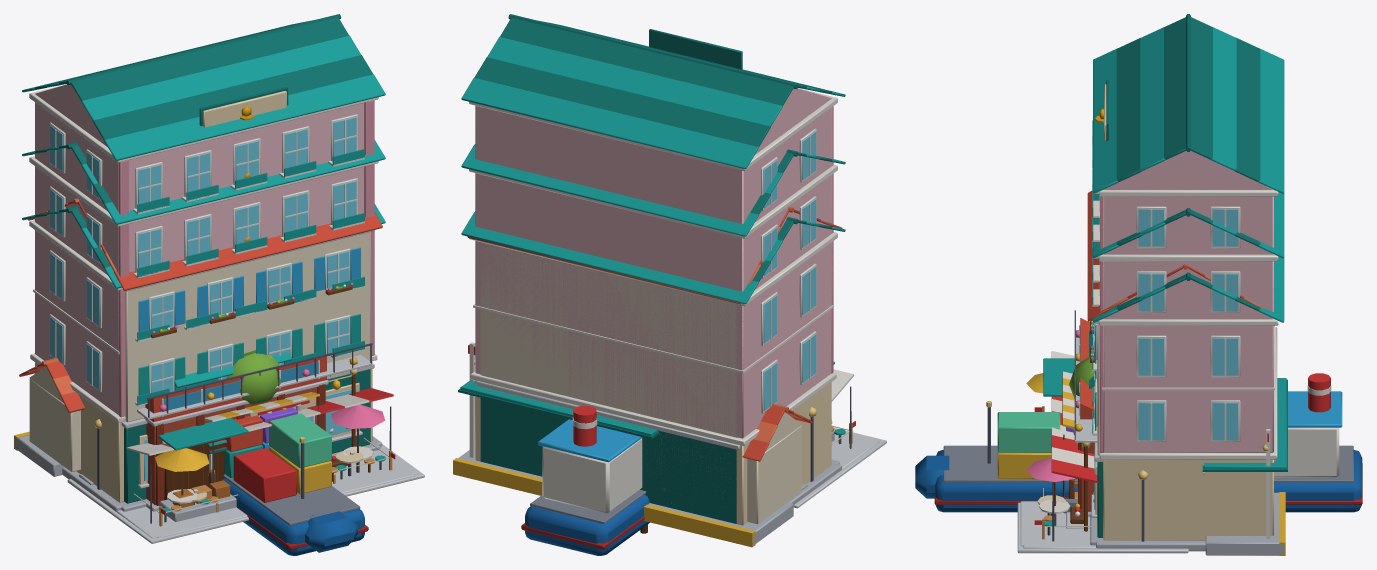
File: decor.glb
The picture shows the model from 3 angles, left to right: view 1: azimuth 30°, elevation 25°; view 2: azimuth 150°, elevation 25°; view 3: azimuth 270°, elevation 25°; orthographic projection. The views are drawn at different scales.
Visible parts, largest first — view 1: hotel_t2, apartment, hotel, hotel_t1, cargo_ship, cannery, halt, tree2_oak, cottage_t2, survey_stakes; view 2: hotel_t2, apartment, hotel, hotel_t1, halt, cargo_ship; view 3: hotel_t2, hotel, hotel_t1, cargo_ship, apartment, halt, cannery.
Boxes of the visible parts, <box> form: hotel_t2: <box>22,14,385,416</box>; apartment: <box>27,198,414,537</box>; hotel: <box>22,204,418,538</box>; hotel_t1: <box>22,140,385,416</box>; cargo_ship: <box>222,407,368,555</box>; cannery: <box>143,356,328,521</box>; halt: <box>14,358,424,543</box>; tree2_oak: <box>226,350,280,404</box>; cottage_t2: <box>174,353,291,469</box>; survey_stakes: <box>134,438,395,526</box>; hotel_t2: <box>461,14,845,436</box>; apartment: <box>467,206,876,523</box>; hotel: <box>461,211,879,525</box>; hotel_t1: <box>461,144,845,437</box>; halt: <box>453,342,886,547</box>; cargo_ship: <box>521,405,649,555</box>; hotel_t2: <box>1092,14,1284,452</box>; hotel: <box>1023,256,1284,551</box>; hotel_t1: <box>1092,192,1284,452</box>; cargo_ship: <box>915,373,1362,512</box>; apartment: <box>1020,191,1276,546</box>; halt: <box>1017,378,1287,555</box>; cannery: <box>1043,318,1094,516</box>.
Bounding box in the file's own units: 11.7 × 17.35 × 15.72.
